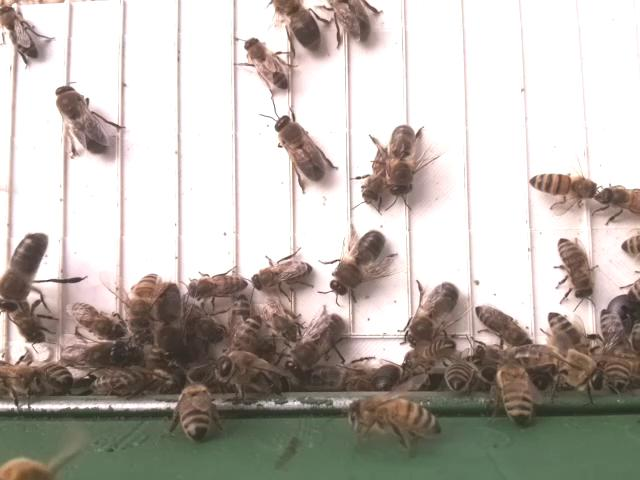Drone: (52, 81, 113, 158), (0, 228, 49, 315), (283, 311, 343, 377), (273, 113, 327, 184), (328, 227, 384, 295), (406, 281, 460, 348), (155, 279, 189, 364), (272, 0, 322, 51), (388, 122, 417, 200)
Worker: (348, 400, 442, 436), (244, 33, 289, 92), (474, 303, 532, 348), (70, 299, 126, 341), (0, 2, 41, 59), (526, 170, 600, 201), (556, 235, 590, 301), (251, 258, 315, 292), (398, 337, 458, 373), (125, 271, 161, 330), (546, 311, 592, 357), (185, 269, 246, 298), (230, 311, 265, 360)
